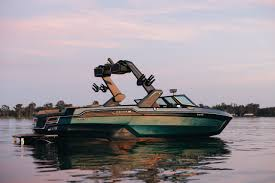boat: (30, 57, 233, 143)
